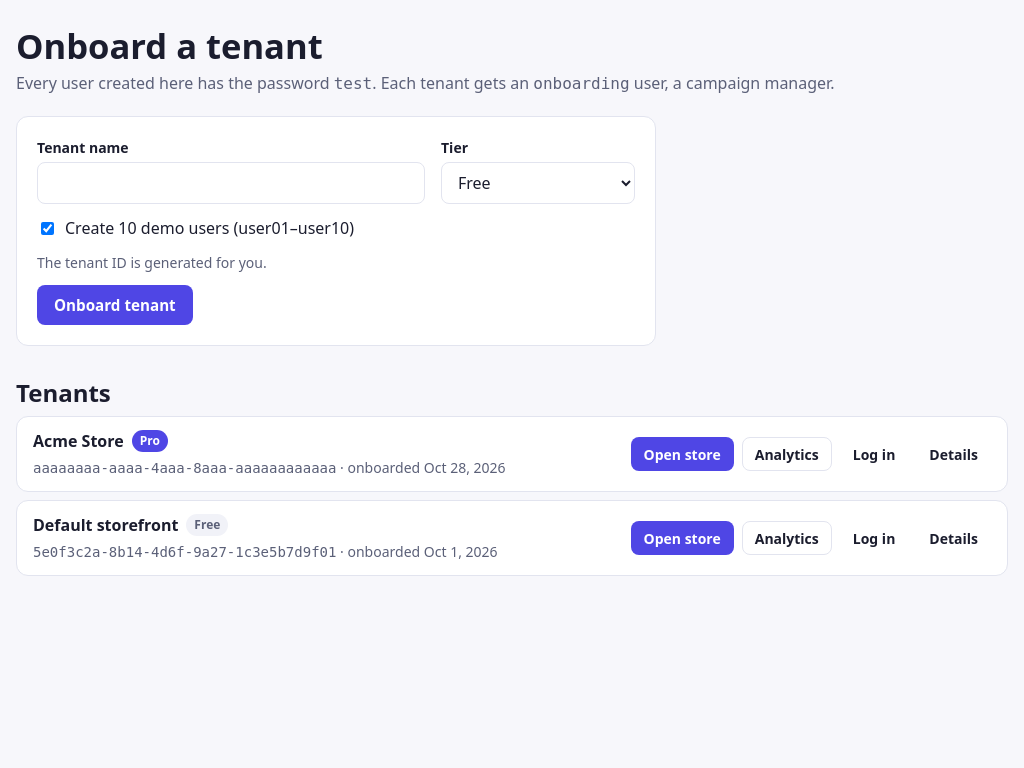
onboarding a tenant › asks for a name before sending anything
What coordinates should you click on to do the following:
click the button "Onboard tenant"
I would click on:
 (115, 305)
Its box is [37,285,193,325].
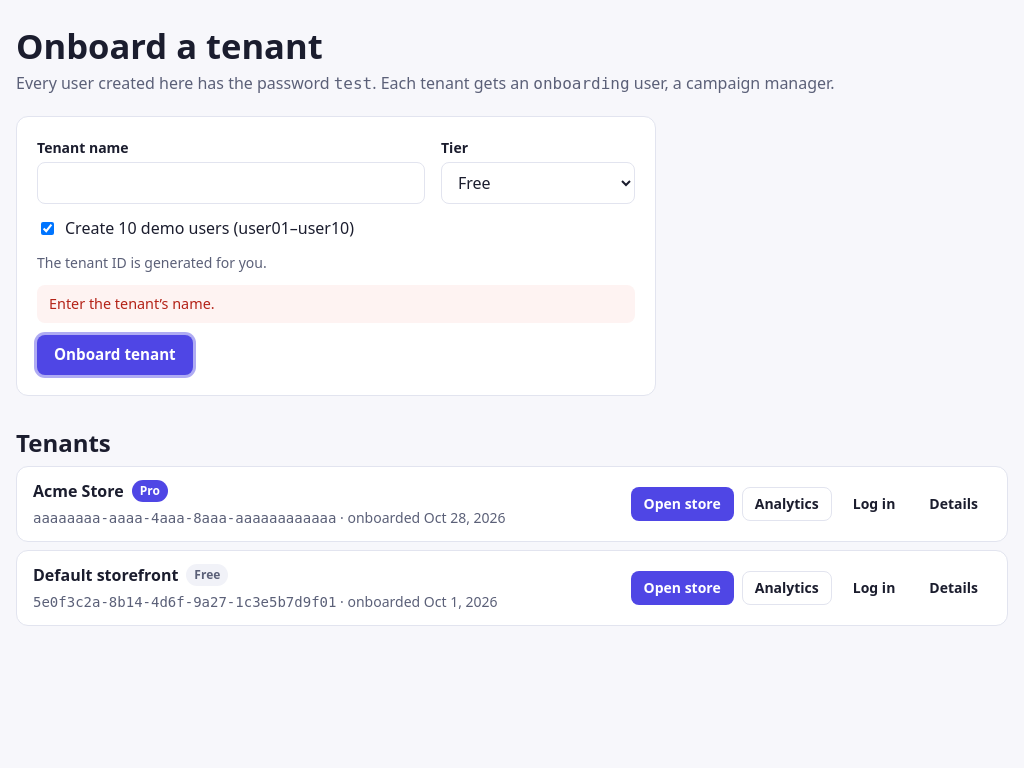
Check: the message reads "Enter the tenant’s name.", box [49,294,215,313]
